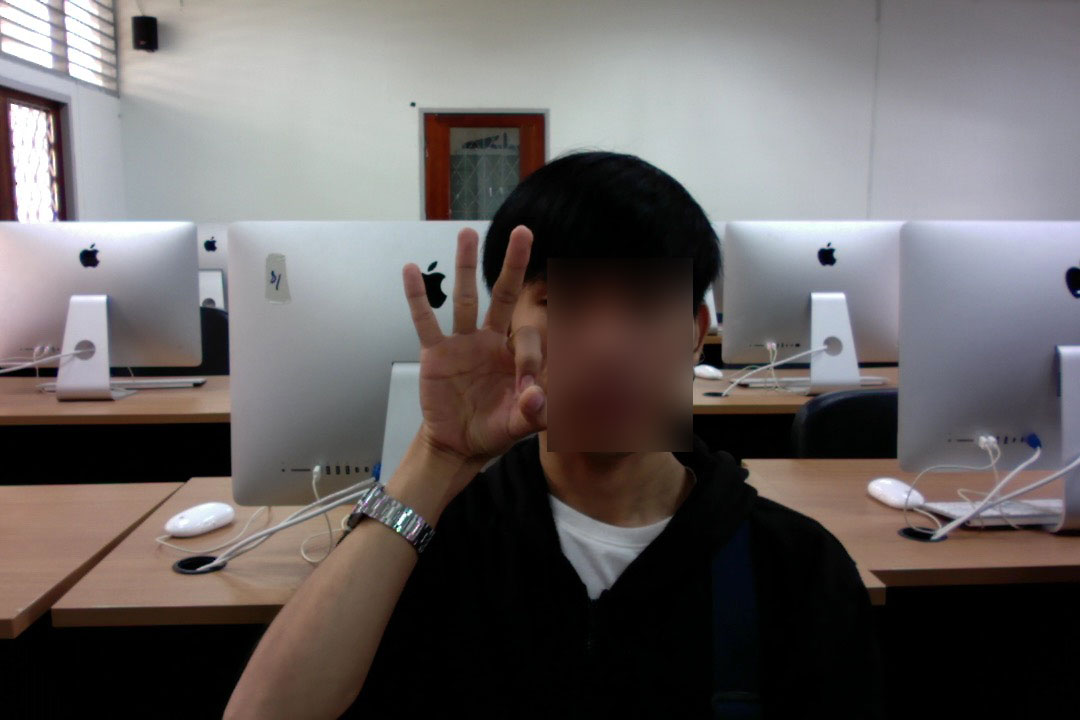for: (372, 204, 571, 495)
